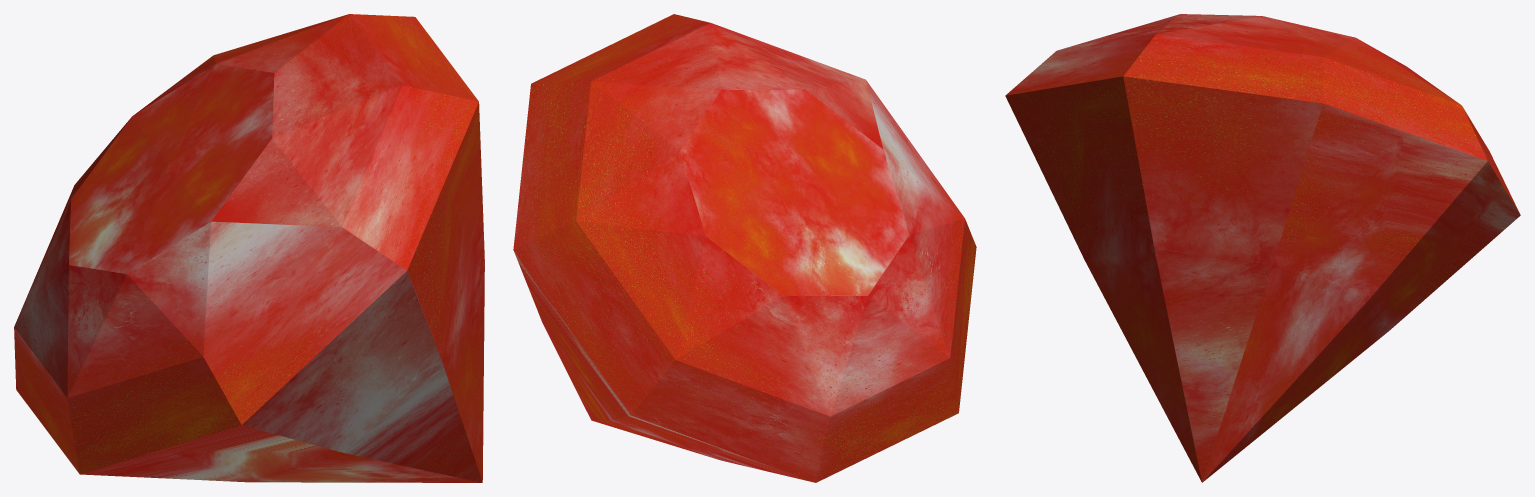
The model's file is diamond-shape-export-withbright-texture3.gltf.
3 views of the same model, side by side, from view 1: azimuth 30°, elevation 25°; view 2: azimuth 150°, elevation 25°; view 3: azimuth 270°, elevation 25° (orthographic). The views are drawn at different scales.
Visible parts, largest first — view 1: dimond; view 2: dimond; view 3: dimond.
Part boxes in pixels (x1,y1,x2,y2): dimond: (14,14,484,482); dimond: (513,14,976,482); dimond: (1005,14,1520,482).
Size of the model in its own units: 7.21 by 7.48 by 8.7.
